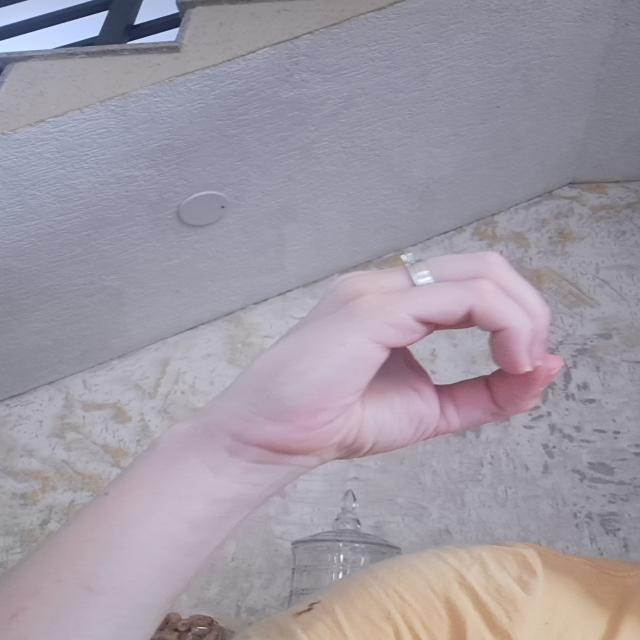O: (227, 240, 570, 484)
